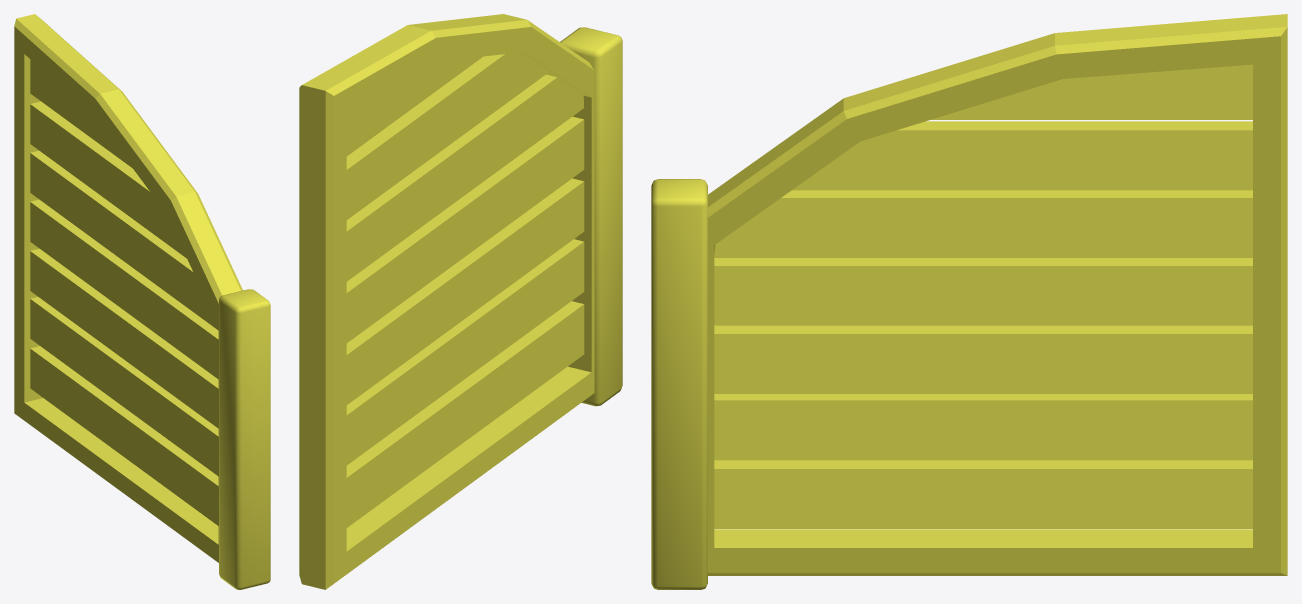
Rendered from barkapisisol.fbx.
3 renders of one model, left to right at view 1: azimuth 30°, elevation 25°; view 2: azimuth 150°, elevation 25°; view 3: azimuth 270°, elevation 25°, orthographic. The views are drawn at different scales.
Visible parts, largest first — view 1: barkapisisol; view 2: barkapisisol; view 3: barkapisisol.
Part boxes in pixels (box(x1,y1,x2,y2)): barkapisisol: box(14, 14, 270, 589); barkapisisol: box(299, 14, 622, 589); barkapisisol: box(651, 14, 1287, 589).
Bounding box in the file's own units: 16.27 × 178 × 183.
